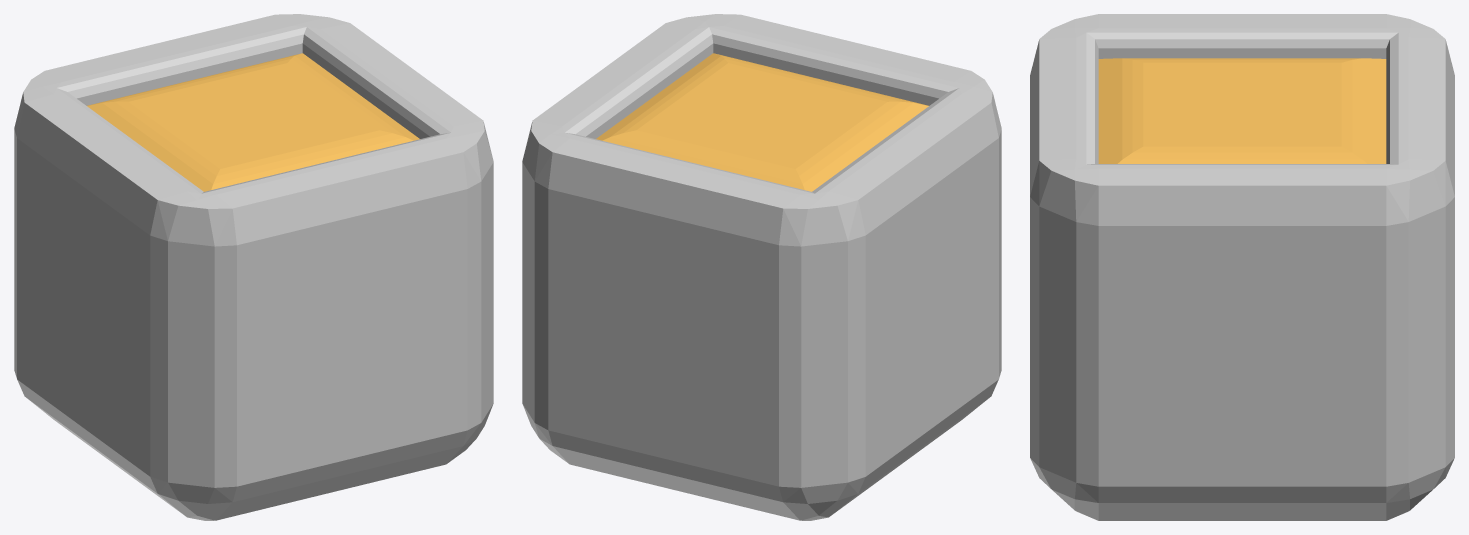
The model's file is STR_3D_emptypot.dae.
3 views of the same model, side by side, from view 1: azimuth 30°, elevation 25°; view 2: azimuth 150°, elevation 25°; view 3: azimuth 270°, elevation 25° (orthographic). The views are drawn at different scales.
Visible parts, largest first — view 1: pot.002, soil.002; view 2: pot.002, soil.002; view 3: pot.002, soil.002.
Boxes of the visible parts, x1,y1,x2,y2 form: pot.002: [14, 14, 493, 520]; soil.002: [87, 53, 419, 191]; pot.002: [522, 14, 1001, 520]; soil.002: [596, 53, 928, 191]; pot.002: [1030, 14, 1454, 520]; soil.002: [1098, 58, 1386, 163].
Bounding box in the file's own units: 2 × 2 × 1.87.
